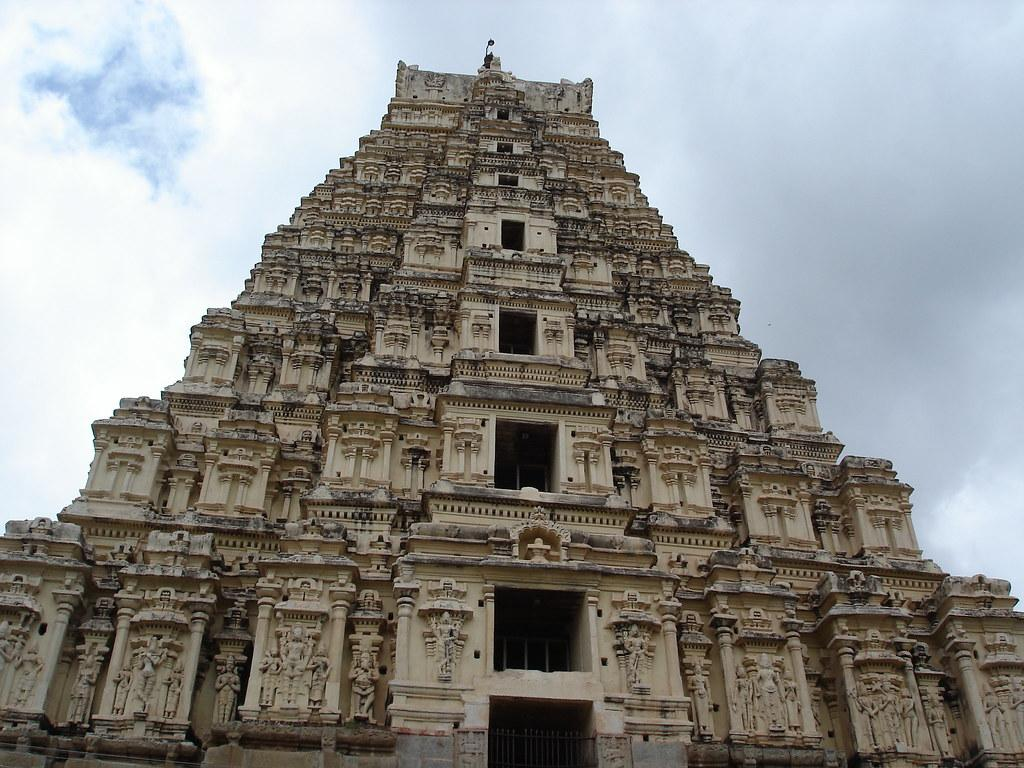temple: (2, 39, 1022, 767)
